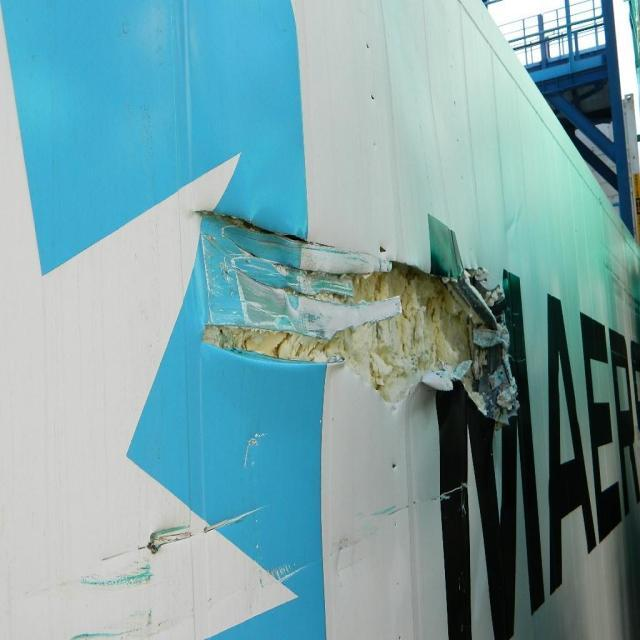hole: (200, 212, 532, 428)
